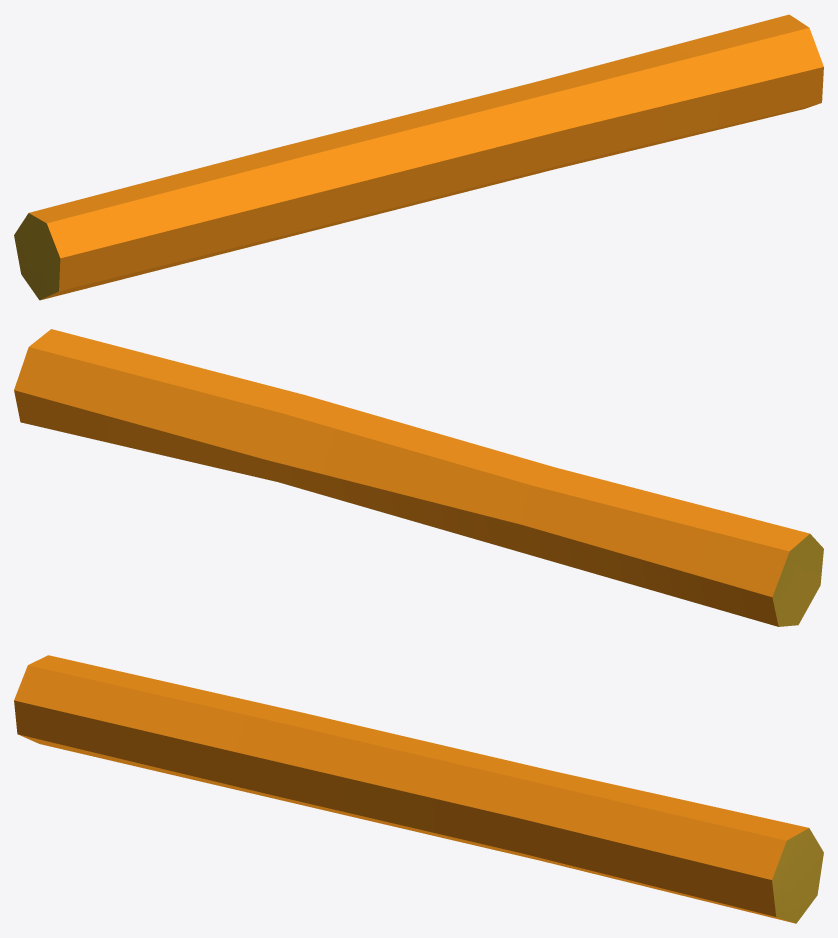
The model's file is tree_log_B.fbx.
The picture shows the model from 3 angles, top to bottom: view 1: azimuth 30°, elevation 25°; view 2: azimuth 150°, elevation 25°; view 3: azimuth 330°, elevation 25°; orthographic projection.
Visible parts, largest first — view 1: tree_log_B; view 2: tree_log_B; view 3: tree_log_B.
Part boxes in pixels (<box>): tree_log_B: <box>14,14,823,300</box>; tree_log_B: <box>14,329,823,626</box>; tree_log_B: <box>14,655,823,923</box>.
Bounding box in the file's own units: 21.95 × 2.73 × 2.73.
